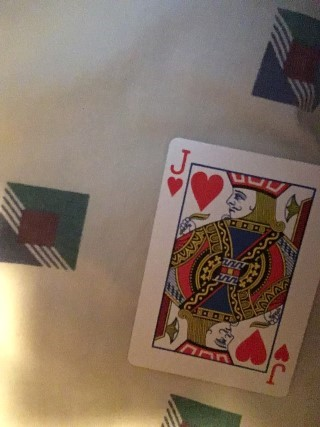JackOfHearts: (127, 138, 320, 397)
